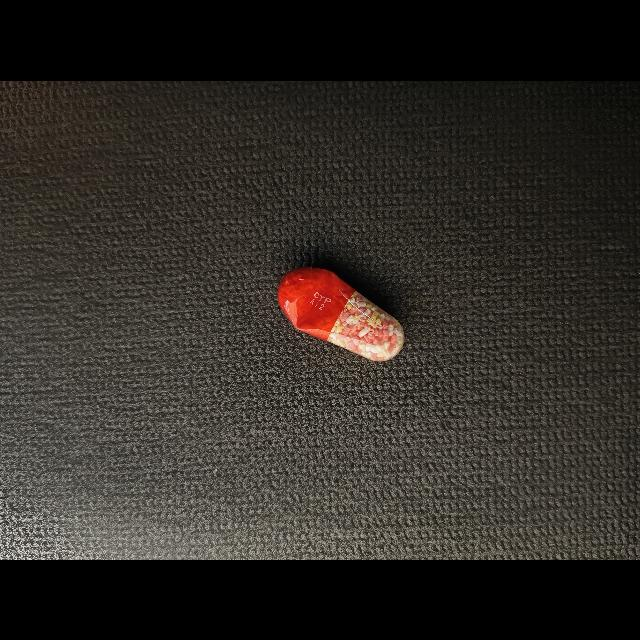Defective Capsule: (278, 266, 404, 361)
